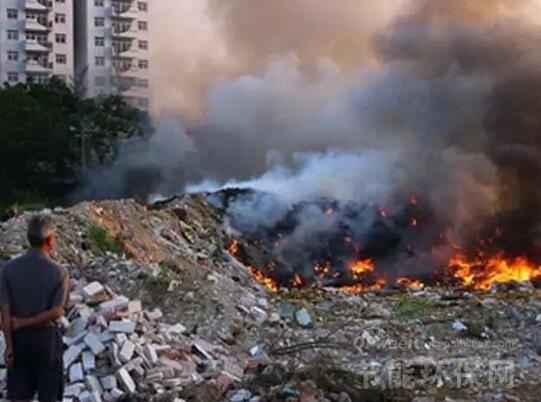fire: (447, 233, 541, 291), (249, 265, 277, 288), (226, 237, 240, 253)
